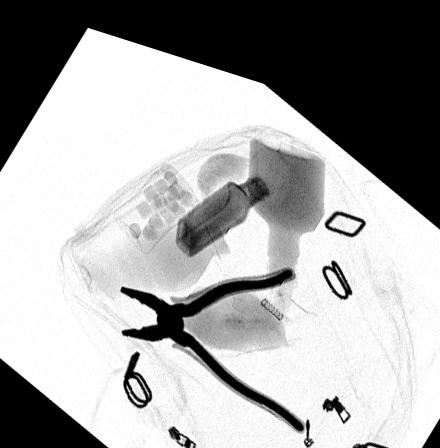Pliers: (119, 246, 306, 412)
